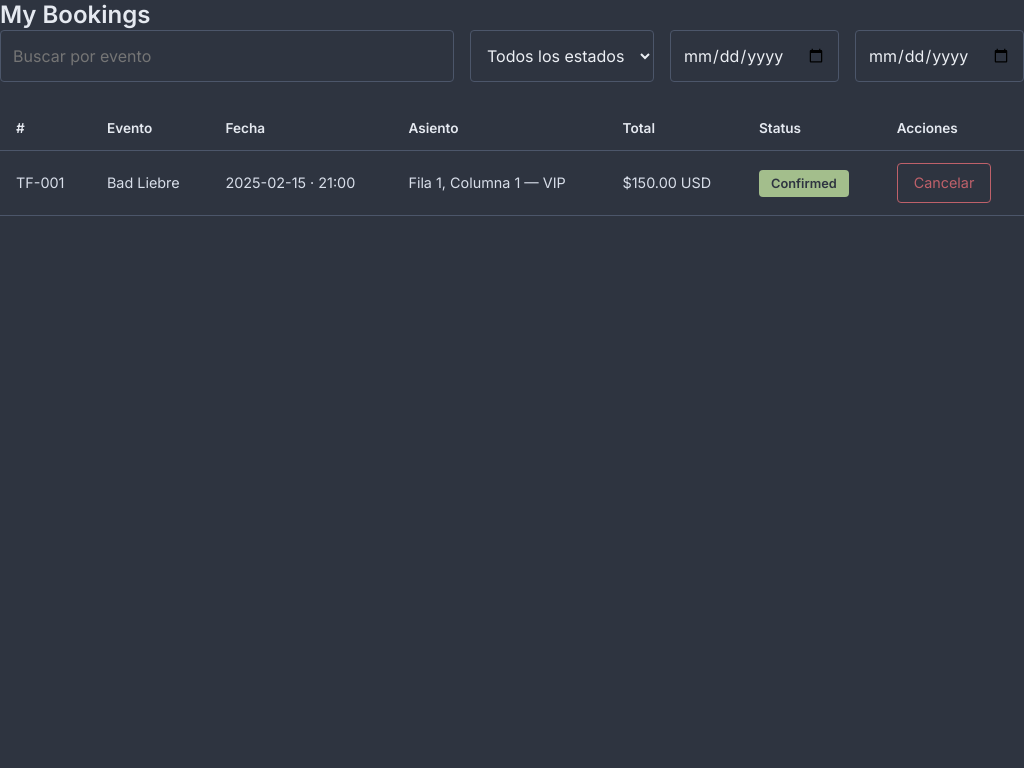
it: BookingsPage › ante 404 BOOKING_NOT_FOUND al cancelar, revalida la página completa (SpecBookings 6.4)
Expected: the text "TF-001" is shown, [0,151,91,216]
intenta cancelar de todas formas
Click the button "Cancelar".
click(944, 183)  # box [897,163,991,203]
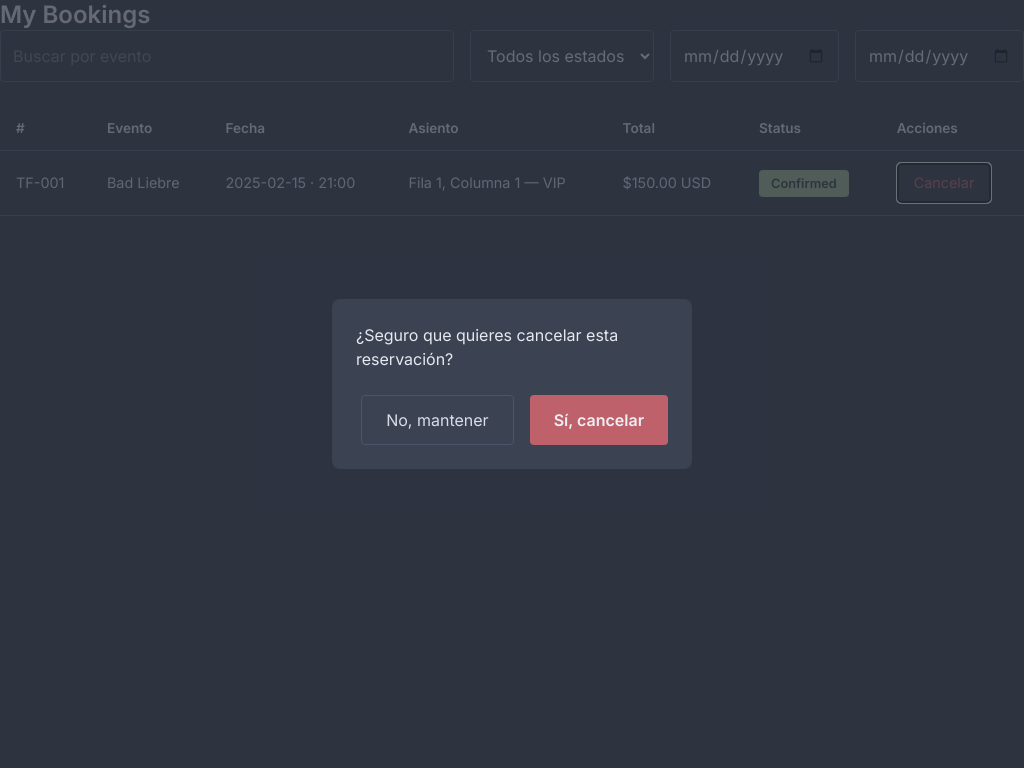
Click the button "Sí, cancelar".
click(599, 420)  # box [530,395,668,445]
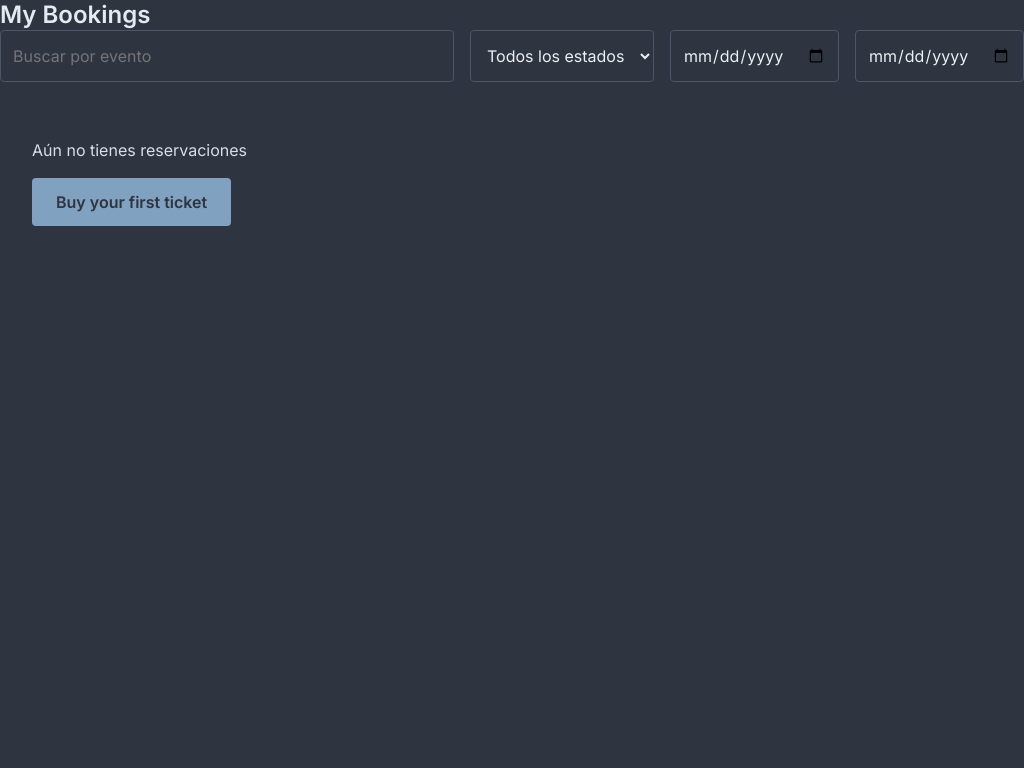
Expected: the text "Aún no tienes reservaciones" is shown, [32,138,247,162]
